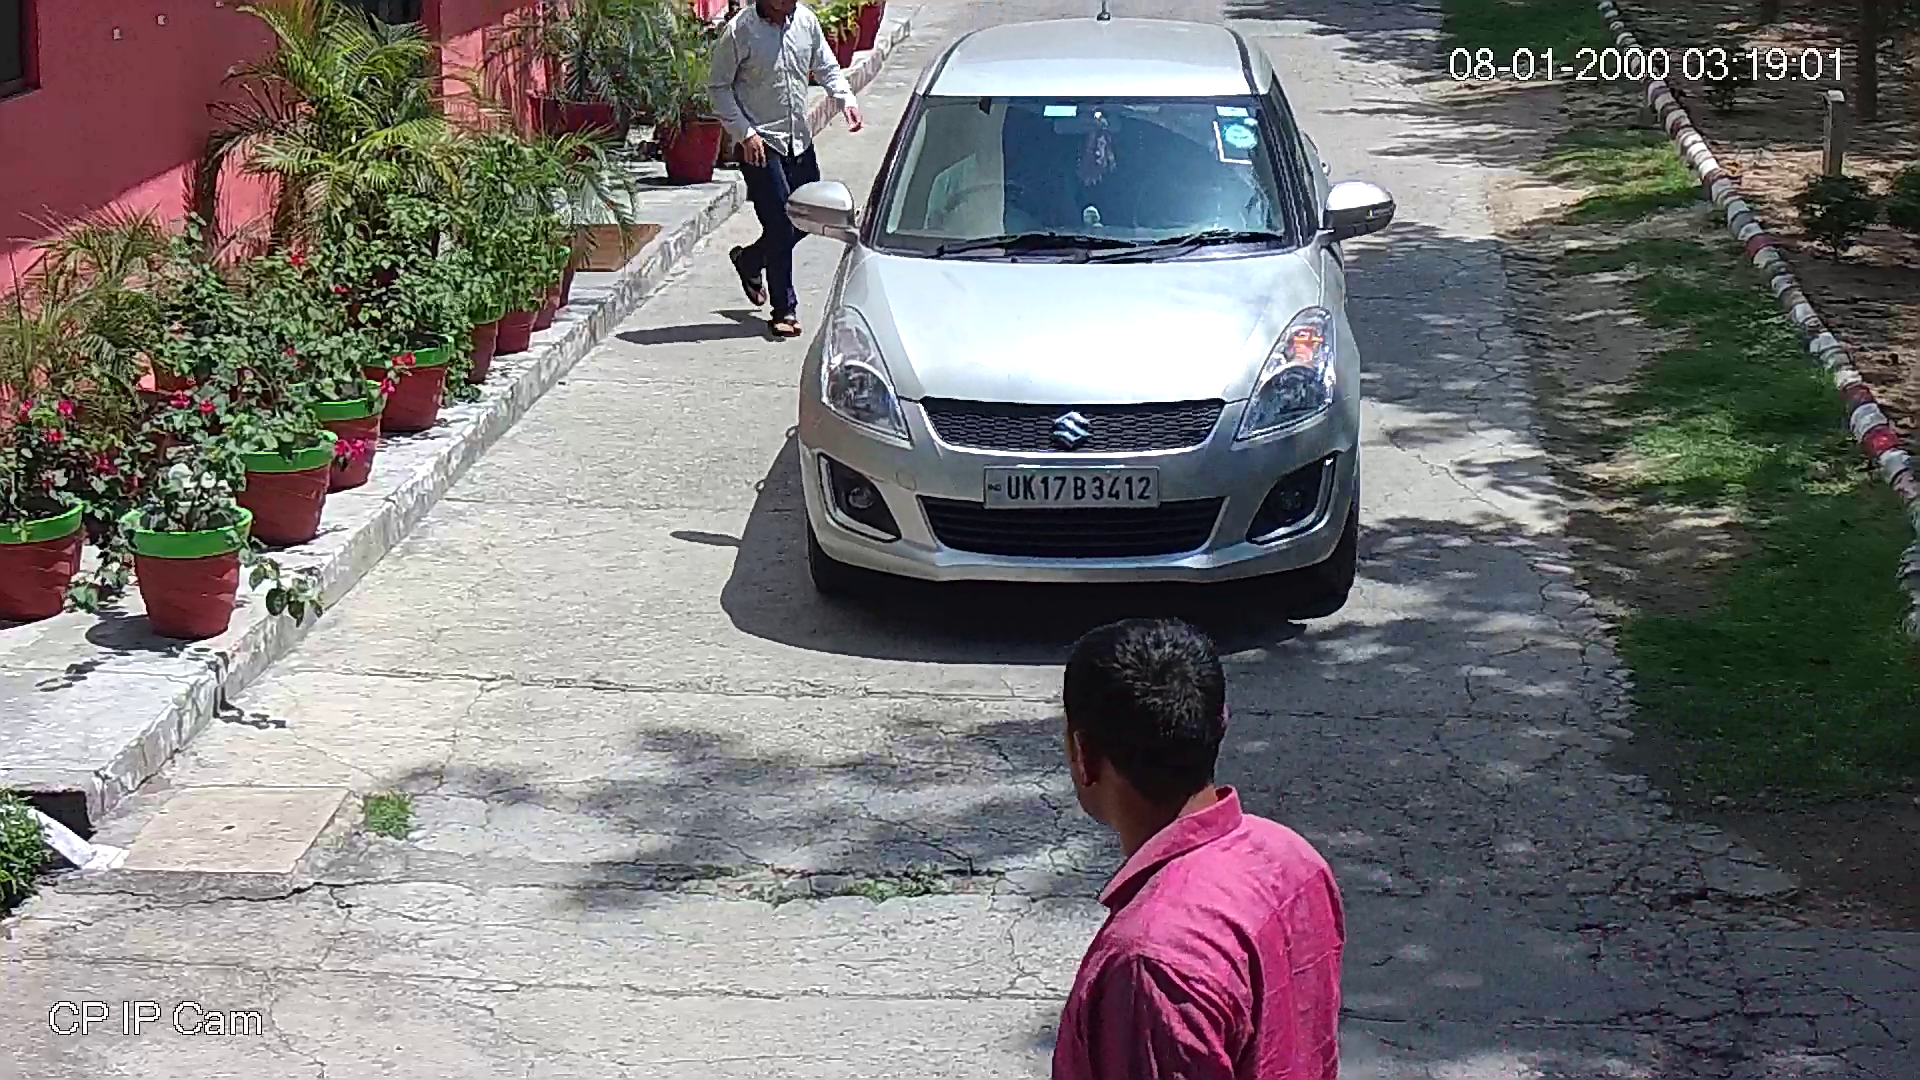plate: (974, 457, 1167, 516)
